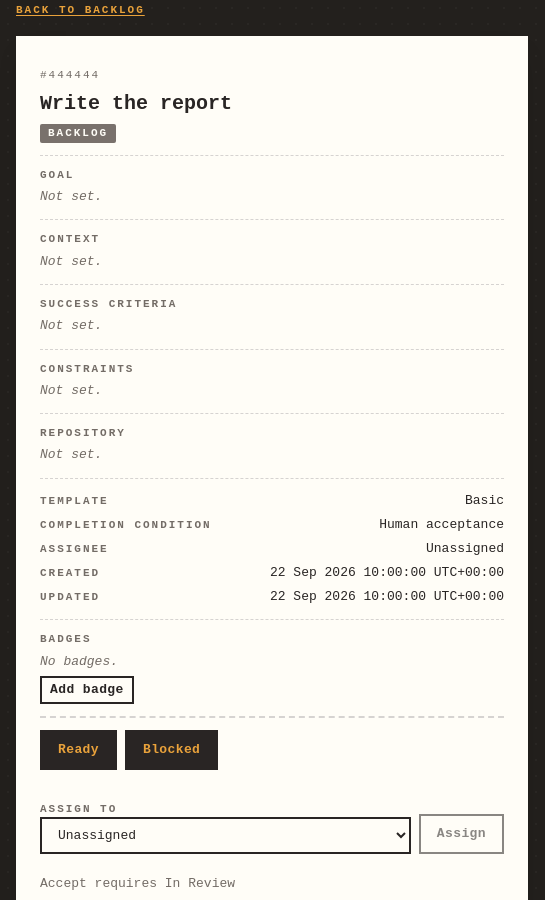
Scenario: TicketDetailPage › shows Galley's Badge-specific 404 reason for a rejected attach
Check: the heading "Write the report" is shown, box [40,92,232,114]
Click the button with test id "badge-picker-toggle" at (87, 690), box [40,676,134,704]
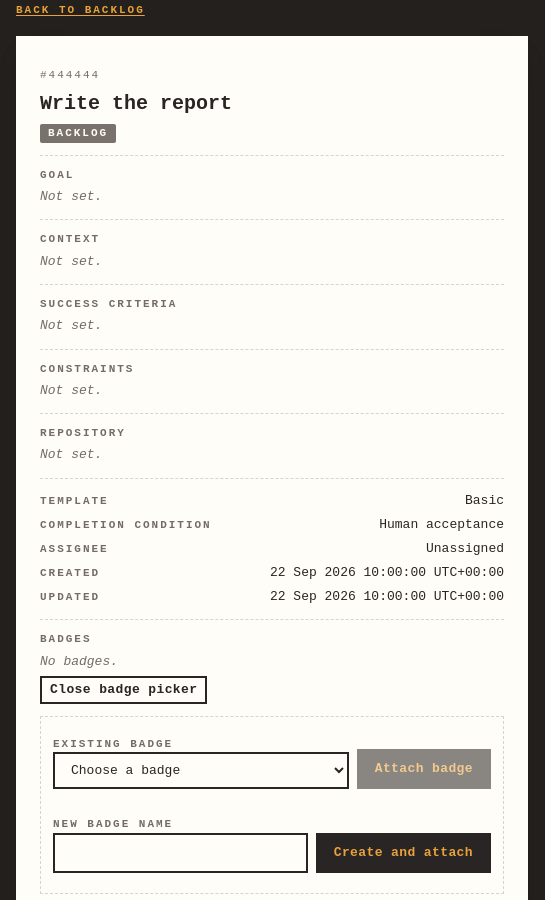
Select "Review" in the dropdown with test id "badge-picker-select" at (201, 771), box [53,752,349,789]
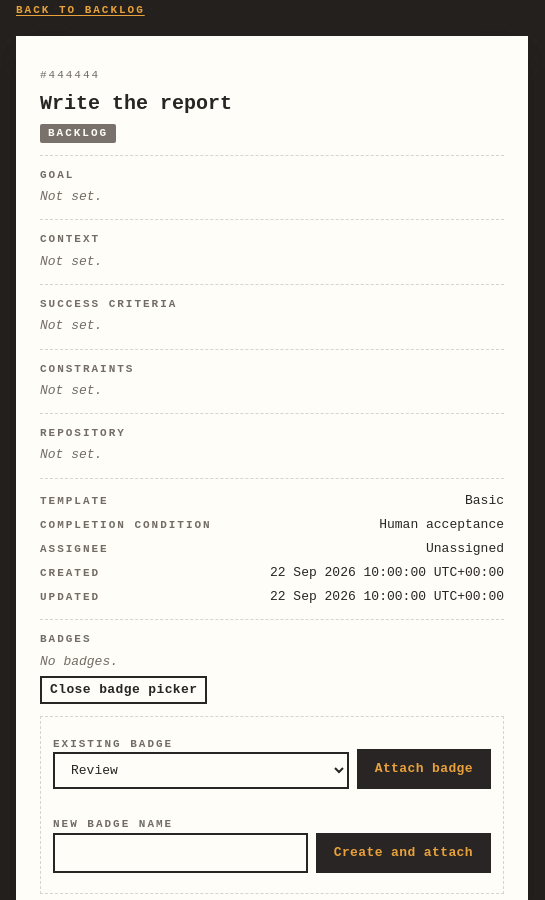
Click the button "Attach badge" at (424, 769), box [357,749,491,789]
(page scrolled)
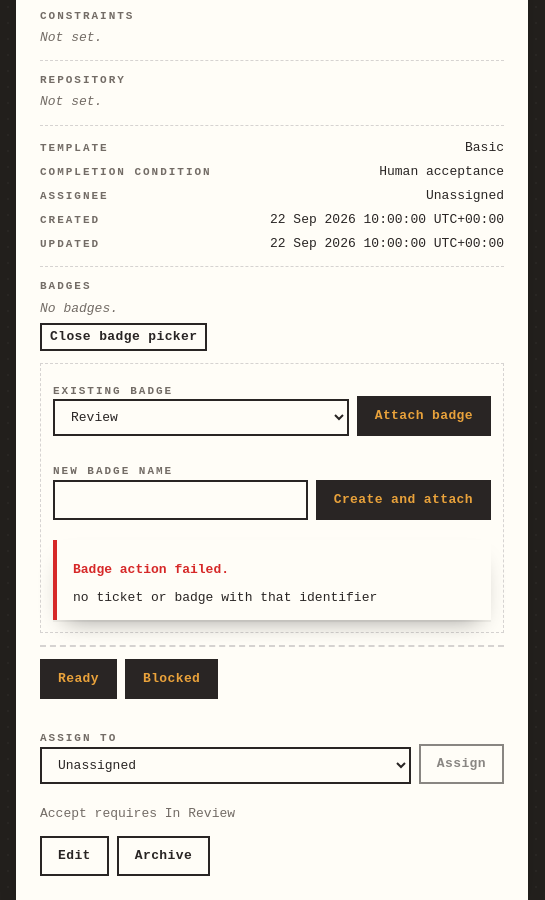
Check: the text with test id "badge-picker-error" reads "no ticket or badge with that identifier", box [73,590,377,605]
